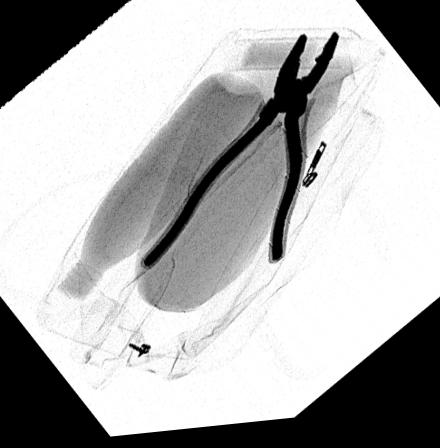Pliers: (137, 36, 339, 272)
